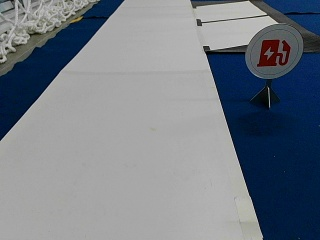battery: (244, 23, 303, 79)
